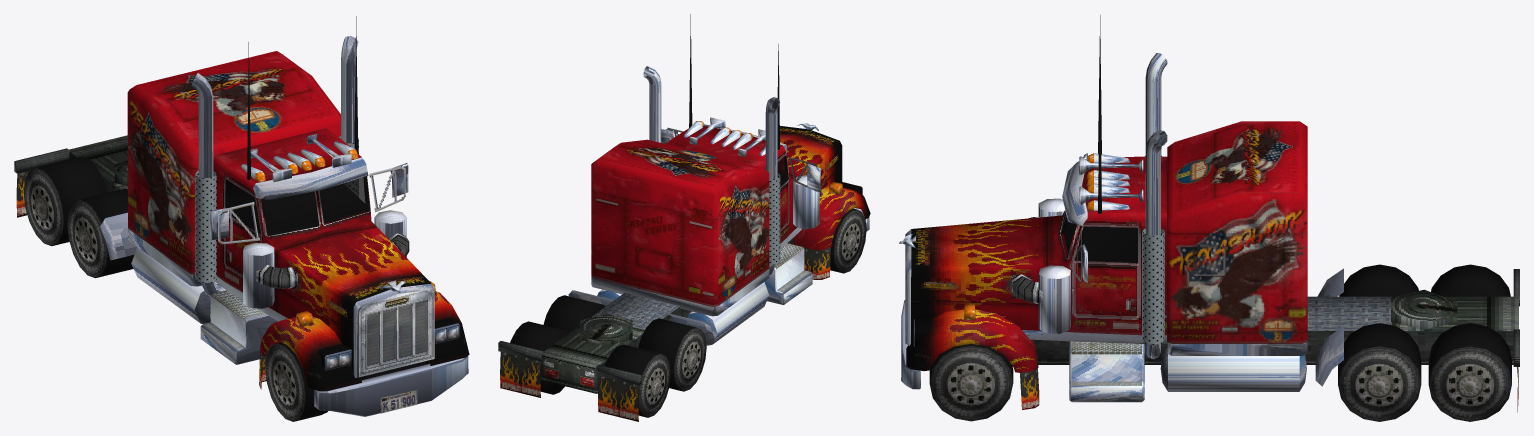
File: main_truck.gltf
The picture shows the model from 3 angles, left to right: view 1: azimuth 30°, elevation 25°; view 2: azimuth 150°, elevation 25°; view 3: azimuth 270°, elevation 25°; orthographic projection. The views are drawn at different scales.
Parts seen in each view (by area): view 1: Asphalt_Cowboy_(Truck)_mesh_3_375.nr.005, AC-Tire_BR_mesh_3_410.nr.005, AC-Tire_MR_mesh_3_412.nr.005, AC-Tire_FR_mesh_3_403.nr.005; view 2: Asphalt_Cowboy_(Truck)_mesh_3_375.nr.005, AC-Tire_MR_mesh_3_412.nr.005, AC-Tire_BR_mesh_3_410.nr.005, AC-Tire_FR_mesh_3_403.nr.005, AC-Tire_BL_mesh_3_406.nr.005, AC-Tire_ML_mesh_3_407.nr.005; view 3: Asphalt_Cowboy_(Truck)_mesh_3_375.nr.005, AC-Tire_BL_mesh_3_406.nr.005, AC-Tire_ML_mesh_3_407.nr.005, AC-Tire_FL_mesh_3_401.nr.005, AC-Tire_BR_mesh_3_410.nr.005, AC-Tire_MR_mesh_3_412.nr.005.
Boxes of the visible parts, x1,y1,x2,y2 form: Asphalt_Cowboy_(Truck)_mesh_3_375.nr.005: [14, 16, 469, 416]; AC-Tire_BR_mesh_3_410.nr.005: [23, 156, 107, 246]; AC-Tire_MR_mesh_3_412.nr.005: [67, 188, 134, 278]; AC-Tire_FR_mesh_3_403.nr.005: [265, 342, 327, 421]; Asphalt_Cowboy_(Truck)_mesh_3_375.nr.005: [498, 14, 870, 421]; AC-Tire_MR_mesh_3_412.nr.005: [638, 318, 706, 391]; AC-Tire_BR_mesh_3_410.nr.005: [605, 344, 670, 417]; AC-Tire_FR_mesh_3_403.nr.005: [830, 208, 866, 273]; AC-Tire_BL_mesh_3_406.nr.005: [510, 321, 569, 394]; AC-Tire_ML_mesh_3_407.nr.005: [543, 295, 605, 332]; Asphalt_Cowboy_(Truck)_mesh_3_375.nr.005: [899, 15, 1519, 412]; AC-Tire_BL_mesh_3_406.nr.005: [1428, 323, 1511, 421]; AC-Tire_ML_mesh_3_407.nr.005: [1338, 323, 1421, 421]; AC-Tire_FL_mesh_3_401.nr.005: [929, 344, 1013, 421]; AC-Tire_BR_mesh_3_410.nr.005: [1431, 264, 1510, 296]; AC-Tire_MR_mesh_3_412.nr.005: [1339, 264, 1418, 296].
Size of the model in its own units: 2.69 by 4.28 by 7.09.
Materials: 31 (31 with a texture image).
